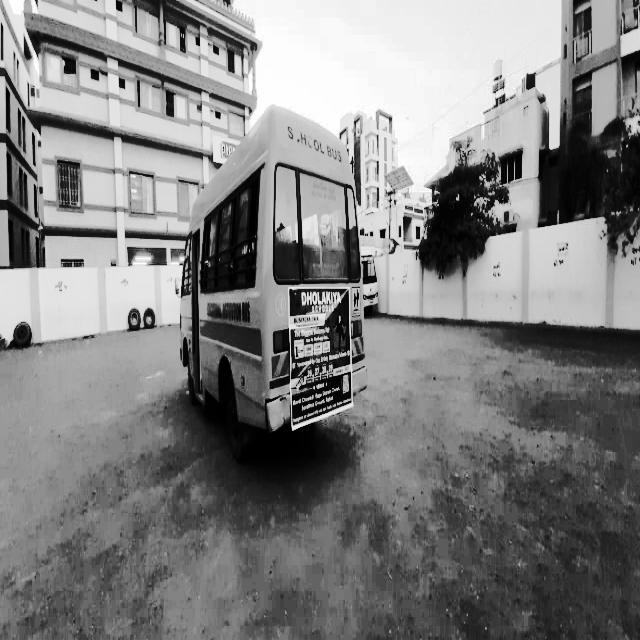Bus: (176, 98, 372, 467), (356, 248, 385, 320)
